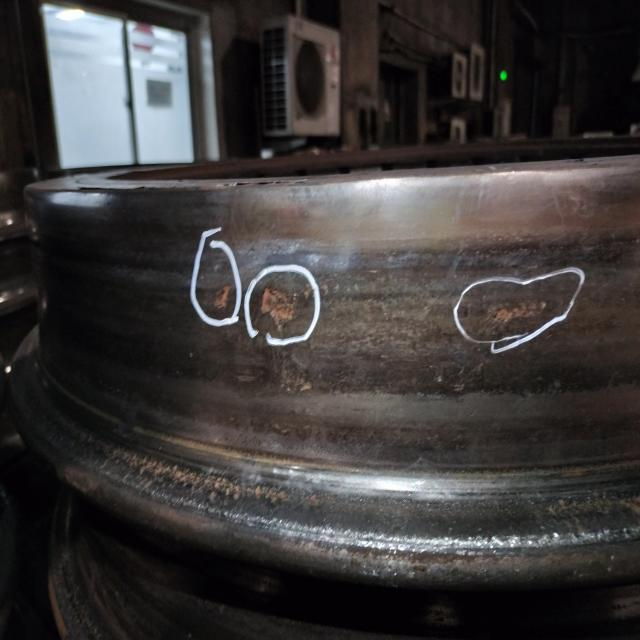Blue hole: (259, 283, 306, 332), (210, 283, 233, 311)
Peeling: (487, 298, 549, 333)
